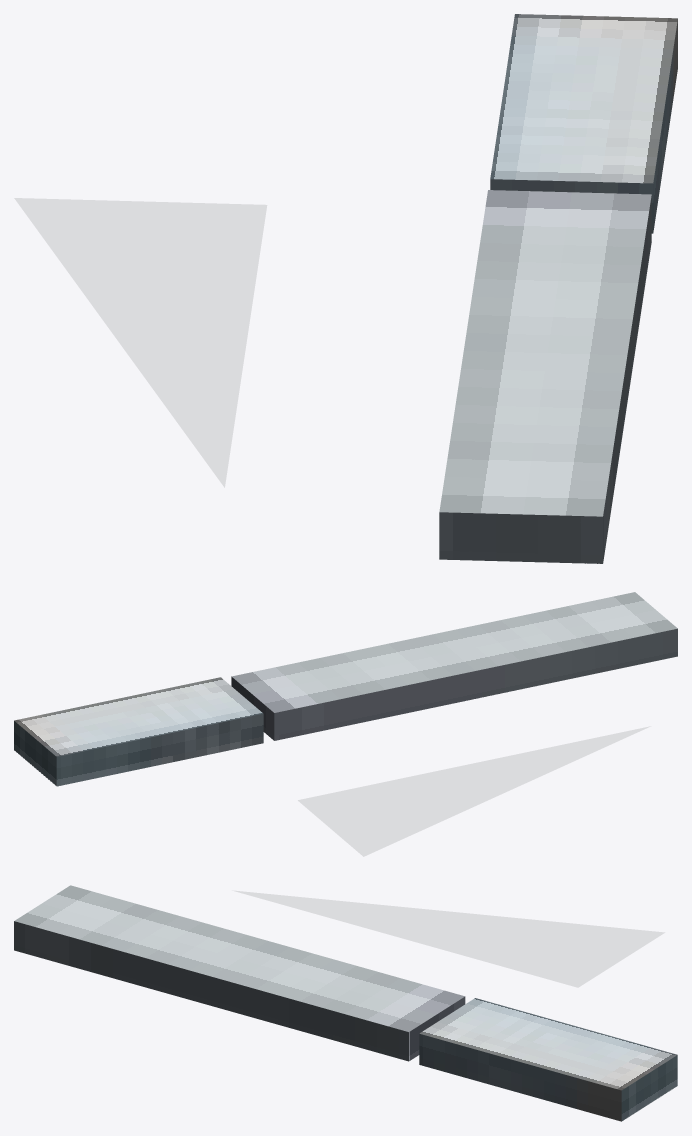
3 renders of one model, top to bottom at view 1: azimuth 30°, elevation 25°; view 2: azimuth 150°, elevation 25°; view 3: azimuth 270°, elevation 25°, orthographic. The views are drawn at different scales.
Parts seen in each view (by area): view 1: Buildings_建物パビリオン; view 2: Buildings_建物パビリオン; view 3: Buildings_建物パビリオン.
Boxes of the visible parts, x1,y1,x2,y2 form: Buildings_建物パビリオン: (14,14,677,563); Buildings_建物パビリオン: (14,592,677,856); Buildings_建物パビリオン: (14,885,677,1121).
Size of the model in its own units: 66.47 by 4.32 by 80.19.
Materials: 3 (2 with a texture image).
